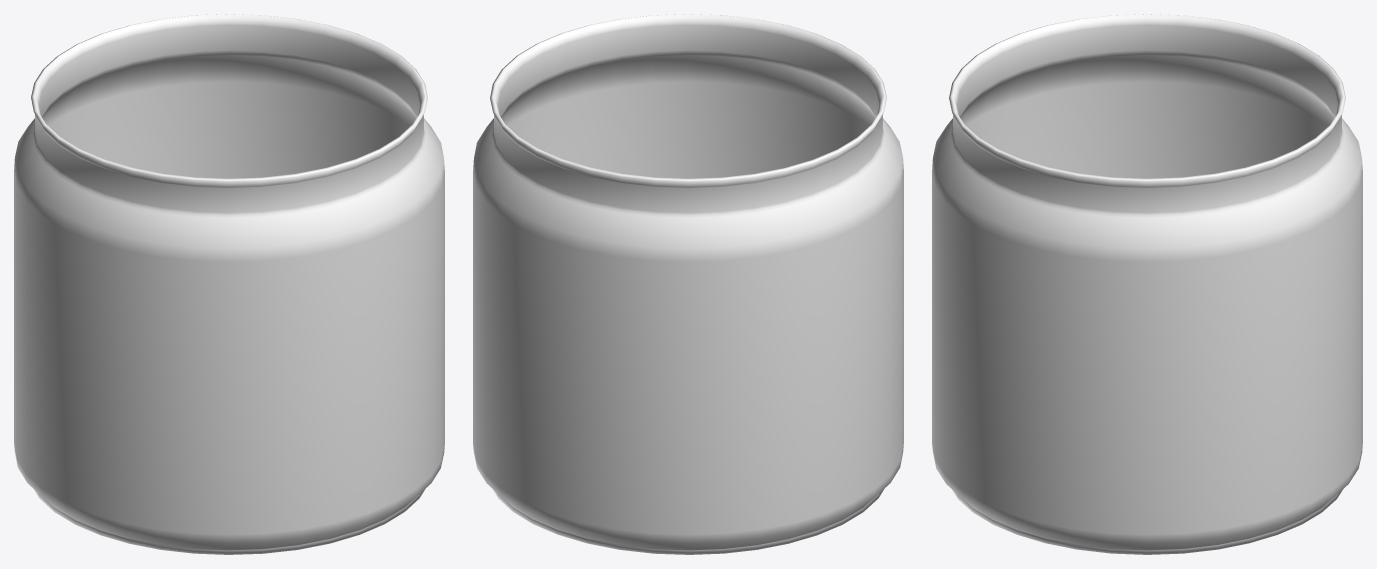
The model's file is tiny_terrarium_-_test.glb.
The picture shows the model from 3 angles, left to right: view 1: azimuth 30°, elevation 25°; view 2: azimuth 150°, elevation 25°; view 3: azimuth 270°, elevation 25°; orthographic projection.
Visible parts, largest first — view 1: glass; view 2: glass; view 3: glass.
Boxes of the visible parts, box(x1,y1,x2,y2) form: glass: box(14, 14, 444, 554); glass: box(473, 14, 903, 554); glass: box(932, 14, 1362, 554).
Size of the model in its own units: 5.82 by 5.56 by 5.82.
13 materials, 12 textured.
